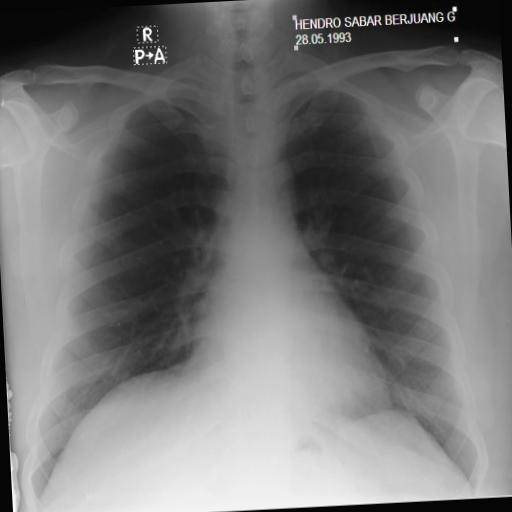normal: (2, 16, 488, 510)
